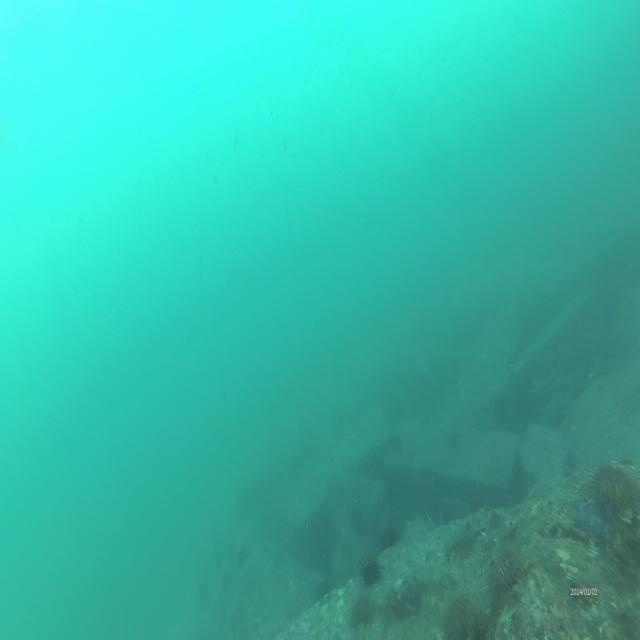echinus: (490, 547, 522, 591), (444, 596, 474, 638), (363, 560, 378, 586)
starfish: (572, 492, 608, 540)
